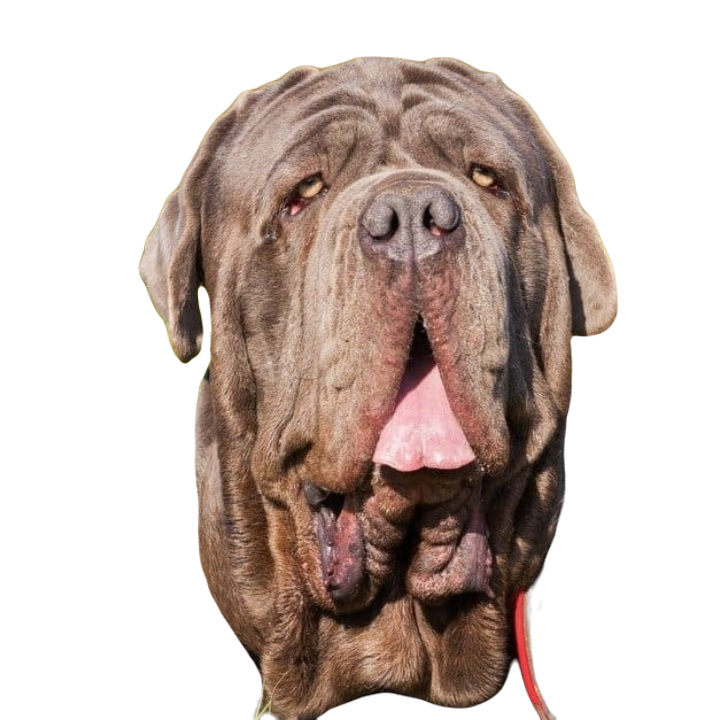Dog: (137, 50, 618, 719)
